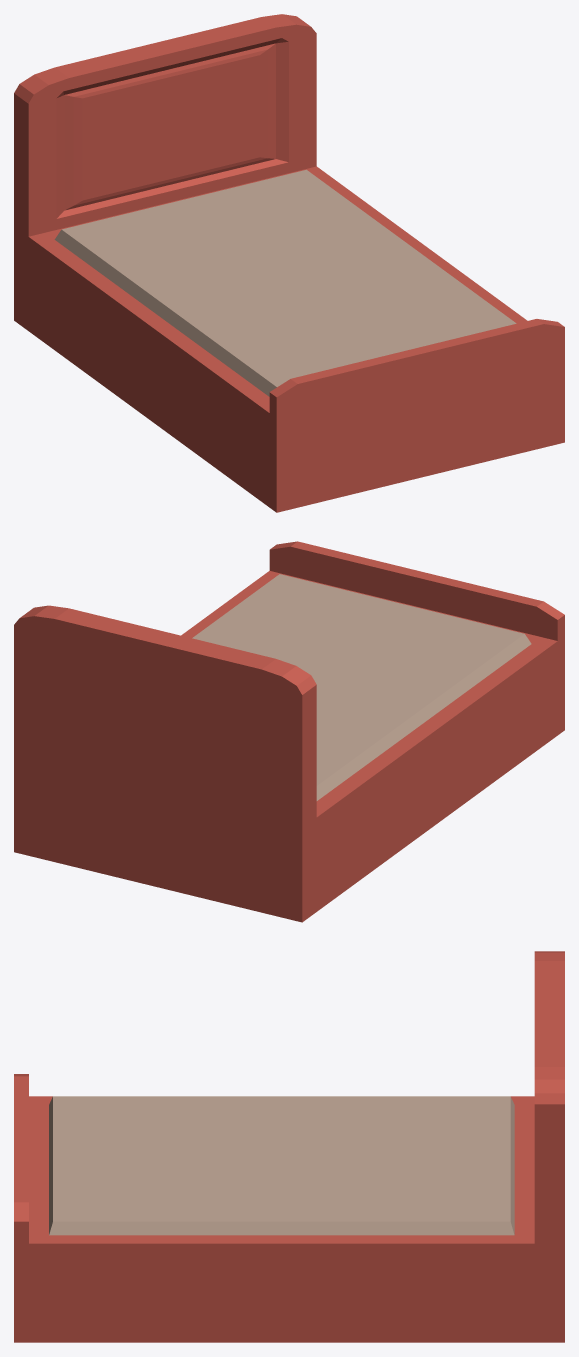
The model's file is bed1.glb.
3 views of the same model, one above another, from view 1: azimuth 30°, elevation 25°; view 2: azimuth 150°, elevation 25°; view 3: azimuth 270°, elevation 25° (orthographic). The views are drawn at different scales.
Parts seen in each view (by area): view 1: 침대; view 2: 침대; view 3: 침대.
Boxes of the visible parts, x1,y1,x2,y2 form: 침대: [14, 14, 564, 512]; 침대: [14, 541, 564, 922]; 침대: [14, 951, 564, 1342].
Size of the model in its own units: 1.38 by 1.11 by 2.18.
